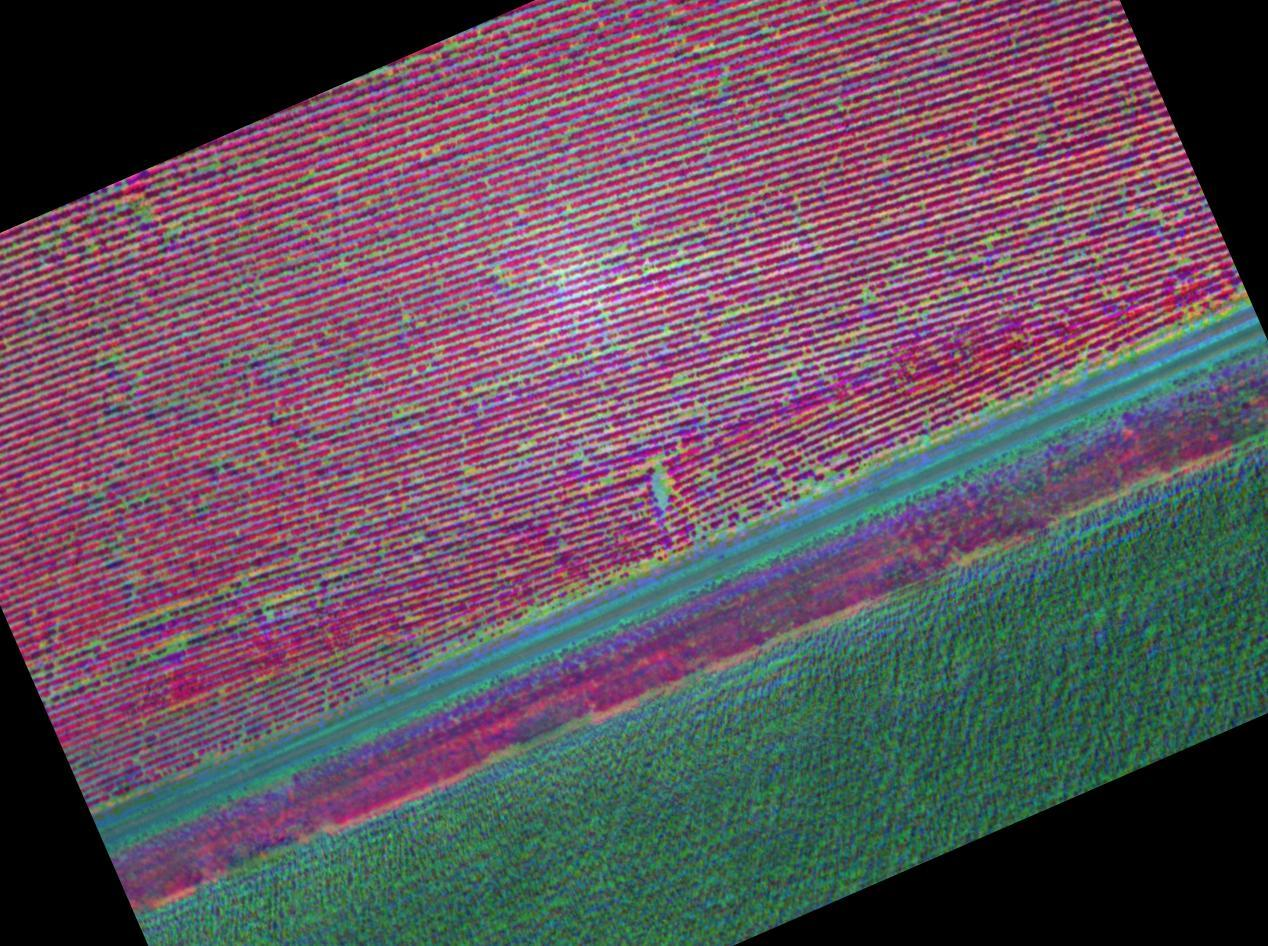dc: (655, 476, 663, 483), (659, 492, 665, 498), (702, 337, 706, 341), (674, 377, 678, 381), (687, 413, 691, 417), (530, 608, 534, 612), (178, 638, 182, 642), (683, 261, 686, 264), (645, 561, 648, 564)
